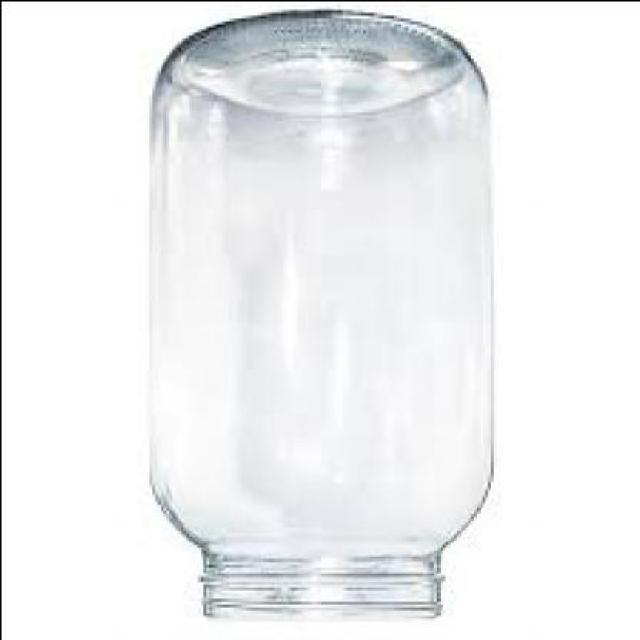GLASS: (139, 8, 495, 623)
